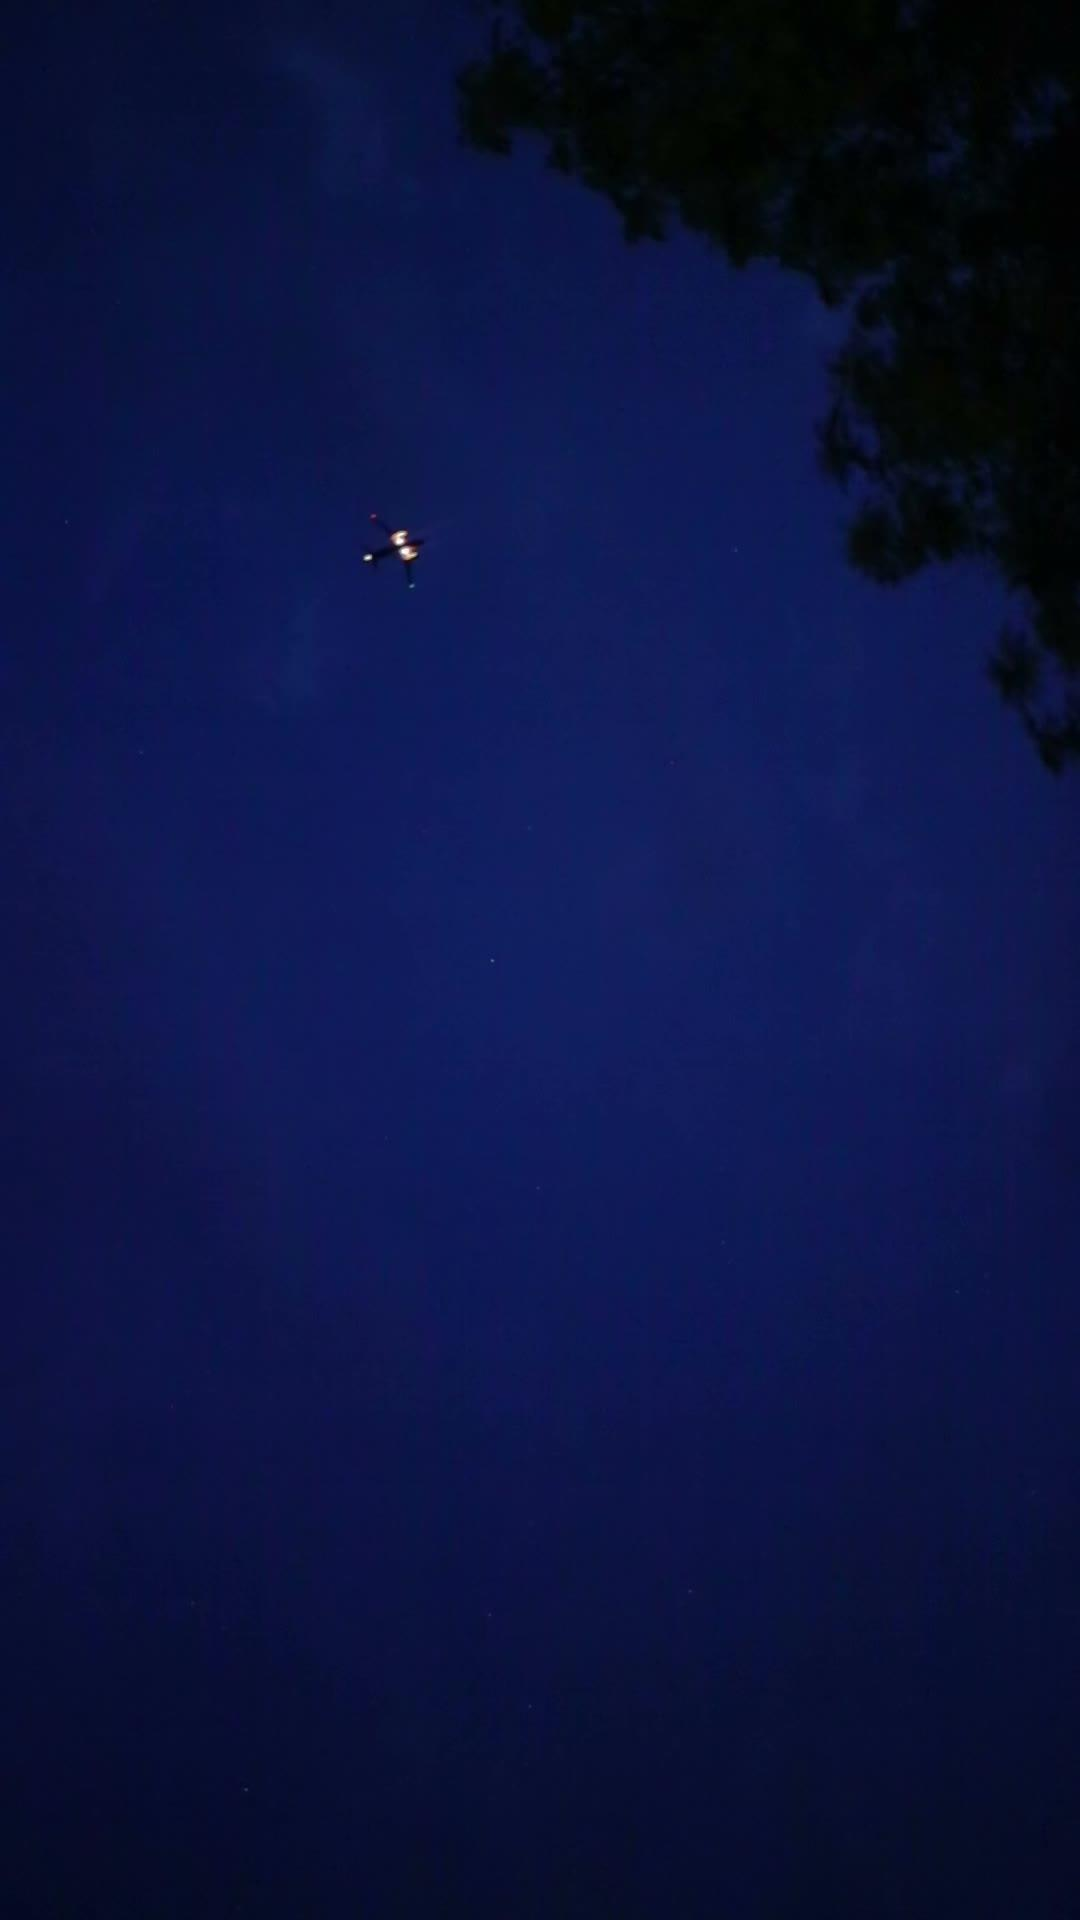Plane: (345, 498, 444, 588)
